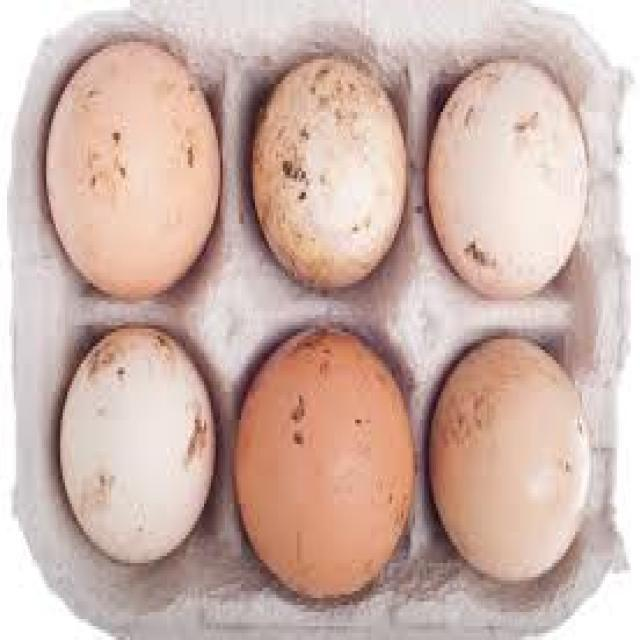Dirt Stained Egg: (228, 326, 418, 593), (231, 35, 418, 302), (41, 27, 227, 290), (424, 330, 604, 589), (49, 308, 212, 580), (415, 49, 594, 290)
